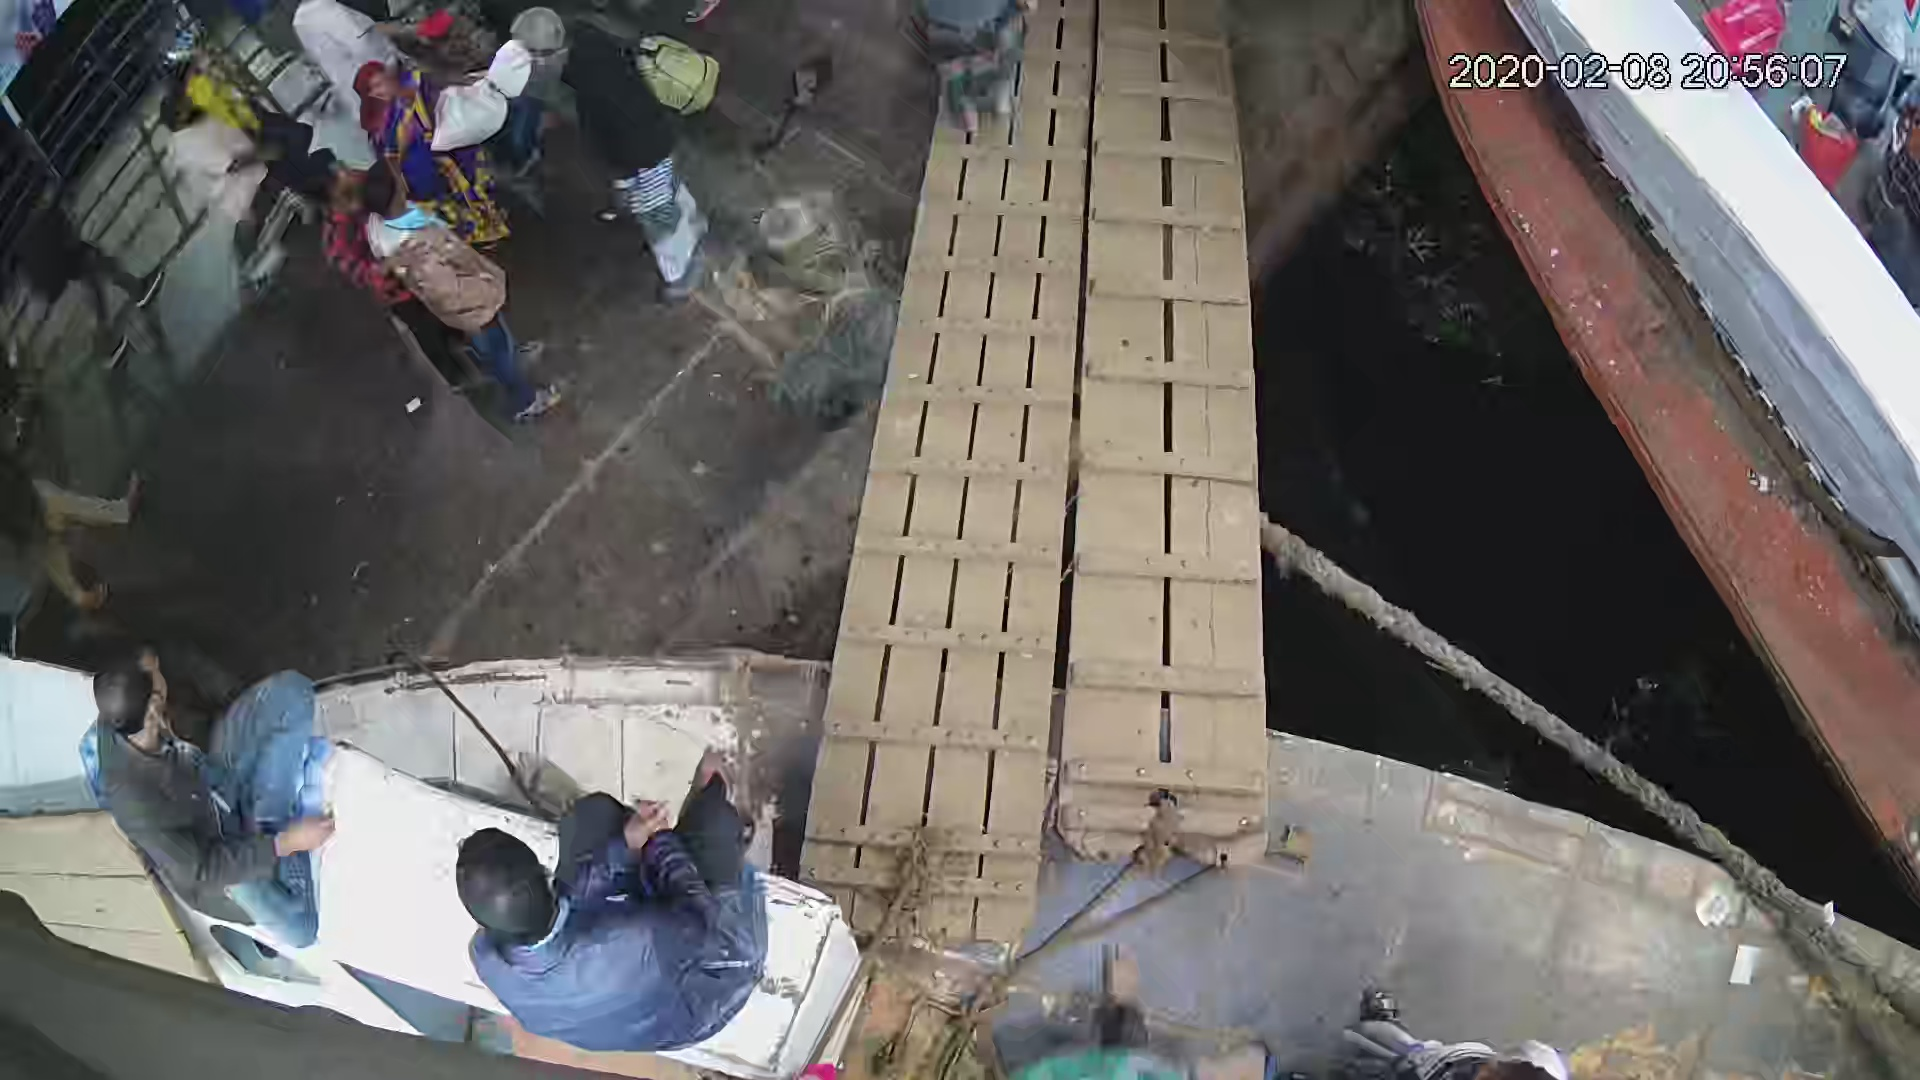person: (452, 739, 775, 1054), (79, 640, 329, 955), (370, 171, 562, 431), (552, 19, 712, 303), (294, 140, 455, 401), (15, 175, 176, 371)
